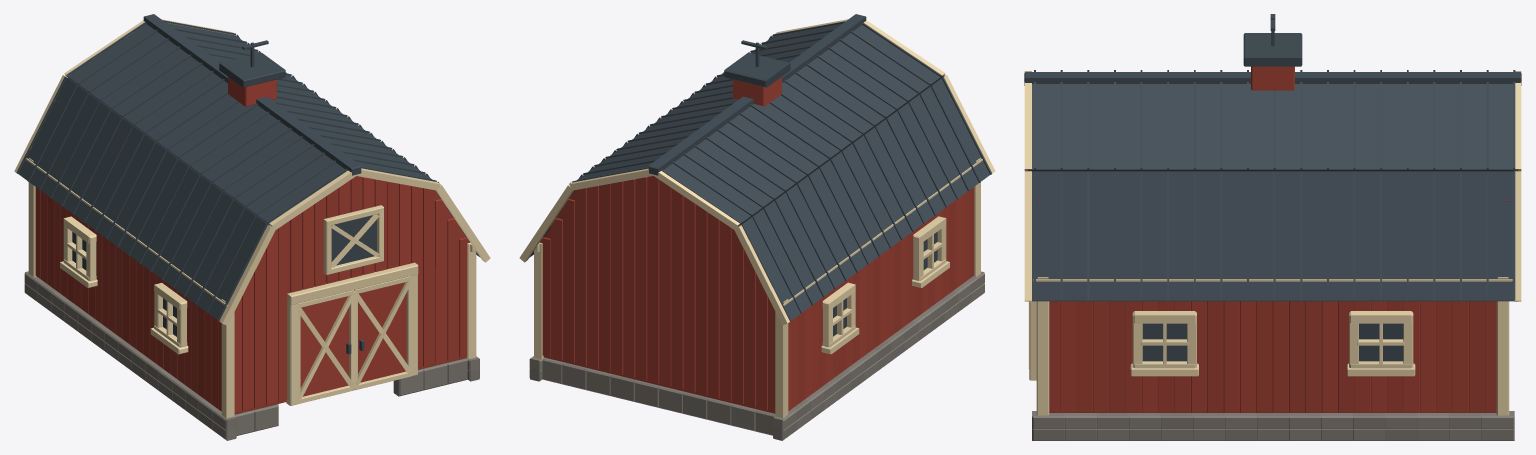
The model's file is barn-candidate.glb.
3 renders of one model, left to right at view 1: azimuth 30°, elevation 25°; view 2: azimuth 150°, elevation 25°; view 3: azimuth 270°, elevation 25°, orthographic. The views are drawn at different scales.
Parts seen in each view (by area): view 1: BarnSurface3, BarnSurface0, BarnSurface1, BarnSurface2; view 2: BarnSurface3, BarnSurface0, BarnSurface1, BarnSurface2; view 3: BarnSurface3, BarnSurface0, BarnSurface1, BarnSurface2.
Boxes of the visible parts, x1,y1,x2,y2 form: BarnSurface3: (16,14,480,354); BarnSurface0: (35,77,470,414); BarnSurface1: (14,19,490,418); BarnSurface2: (24,271,479,440); BarnSurface3: (529,14,991,336); BarnSurface0: (539,77,974,413); BarnSurface1: (519,19,995,417); BarnSurface2: (529,271,984,440); BarnSurface3: (1024,14,1521,361); BarnSurface0: (1037,66,1508,412); BarnSurface1: (1024,71,1521,415); BarnSurface2: (1032,411,1514,440).
Bounding box in the file's own units: 8.93 × 9.28 × 11.95.
